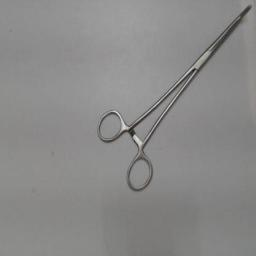Lahey Forceps: (94, 2, 254, 198)
